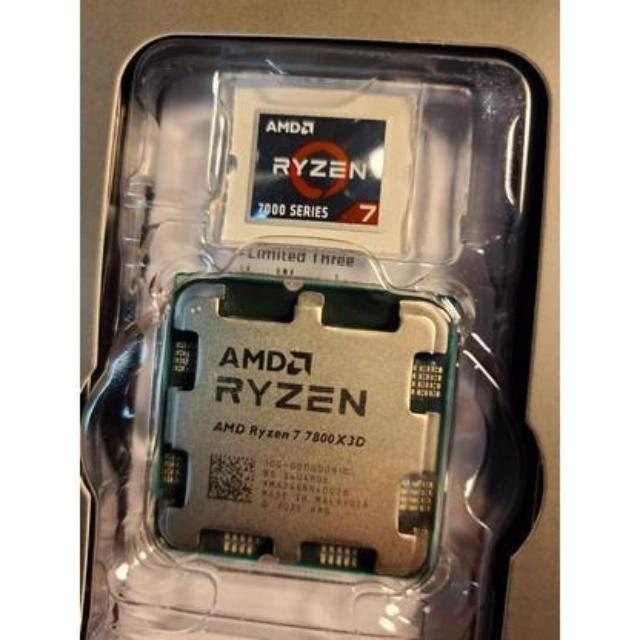CPU: (156, 282, 424, 573)
